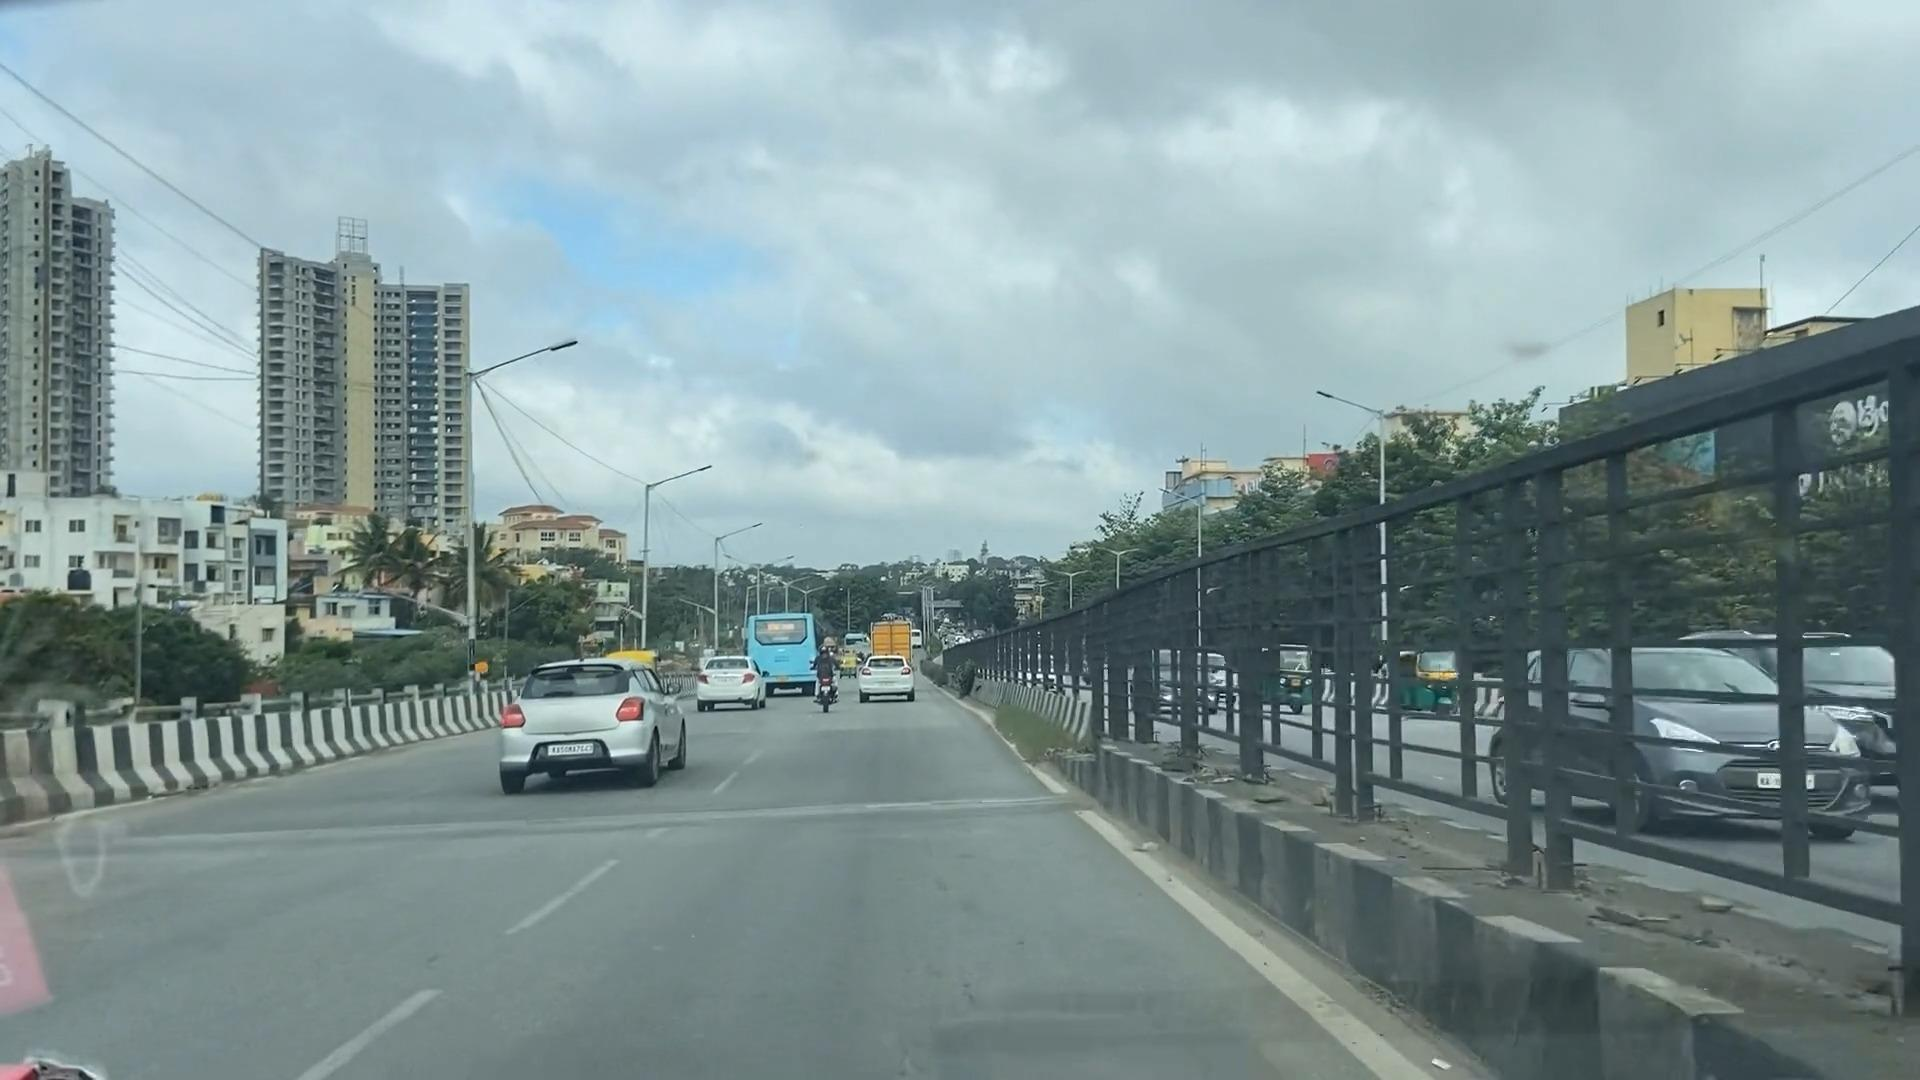HMV: (742, 600, 835, 729)
LMV: (491, 633, 700, 812), (799, 622, 862, 746), (843, 642, 927, 724), (680, 649, 769, 727)
